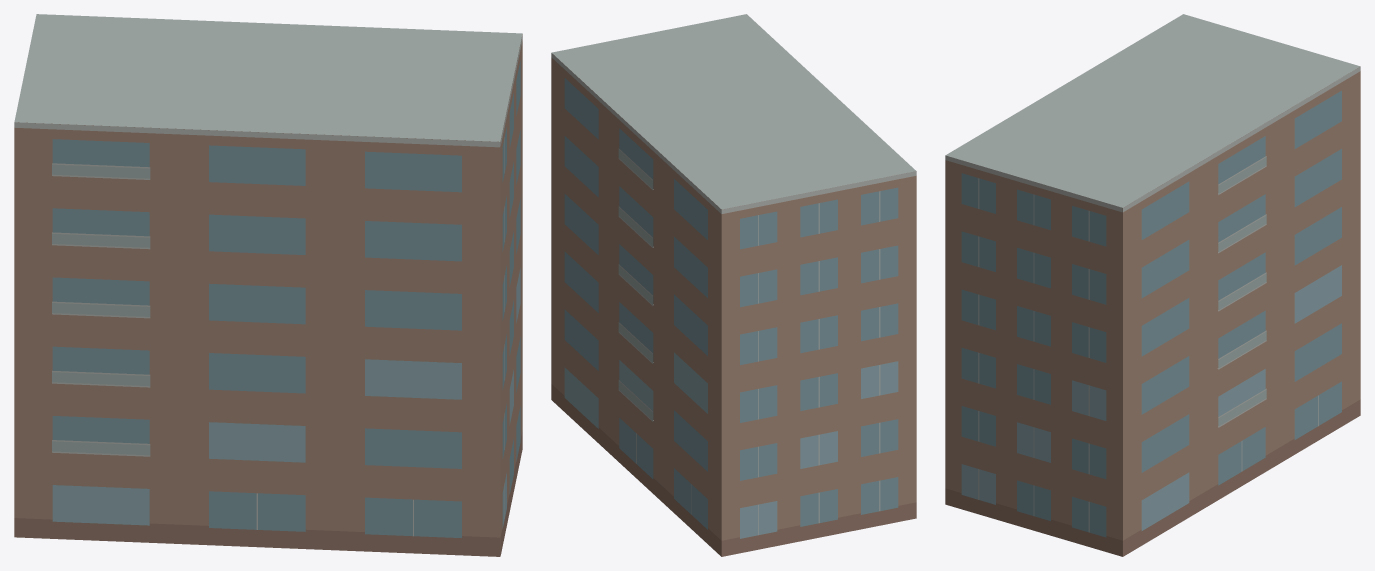
The model's file is survey-upis-33006155.glb.
3 views of the same model, side by side, from view 1: azimuth 30°, elevation 25°; view 2: azimuth 150°, elevation 25°; view 3: azimuth 270°, elevation 25° (orthographic). The views are drawn at different scales.
Parts seen in each view (by area): view 1: survey-upis-33006155.tmp; view 2: survey-upis-33006155.tmp; view 3: survey-upis-33006155.tmp.
Boxes of the visible parts, bbox=[...] form: survey-upis-33006155.tmp: bbox=[14, 14, 522, 556]; survey-upis-33006155.tmp: bbox=[551, 14, 916, 556]; survey-upis-33006155.tmp: bbox=[945, 14, 1360, 556].
Size of the model in its own units: 21.8 by 18.3 by 19.74.
